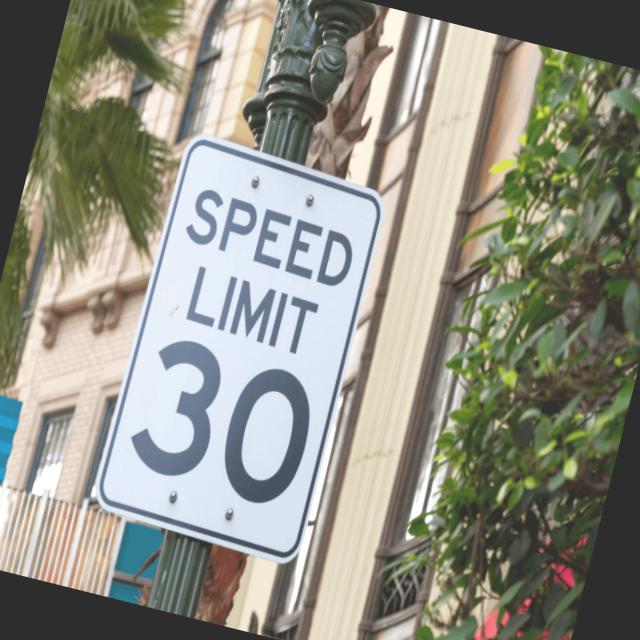Speed Limit Signs: (85, 126, 396, 570)
